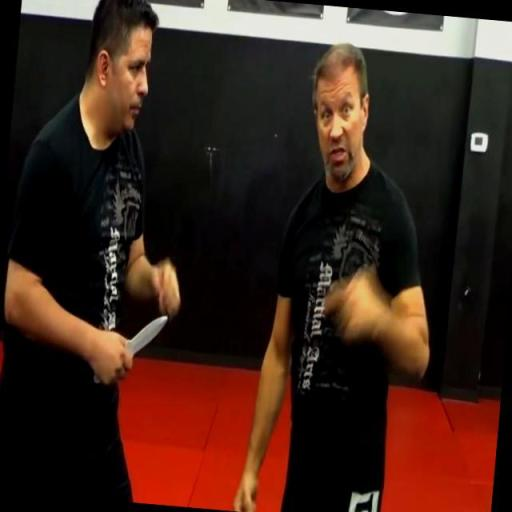knife: (88, 302, 170, 393)
